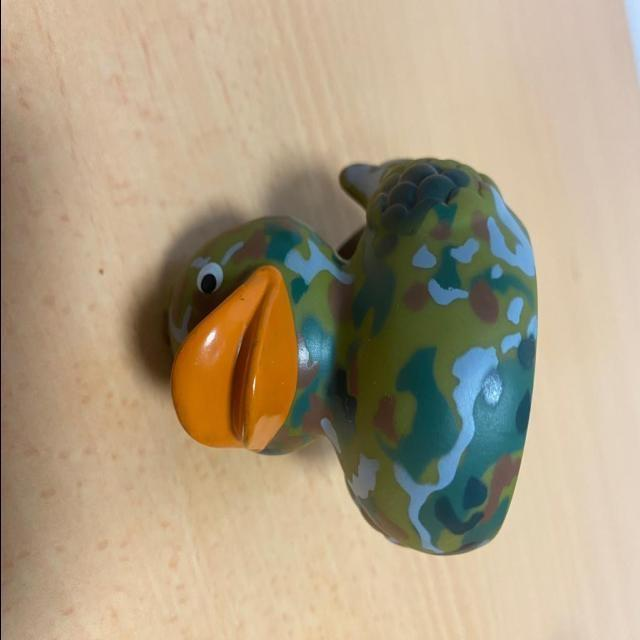rubber-duck: (168, 157, 535, 552)
